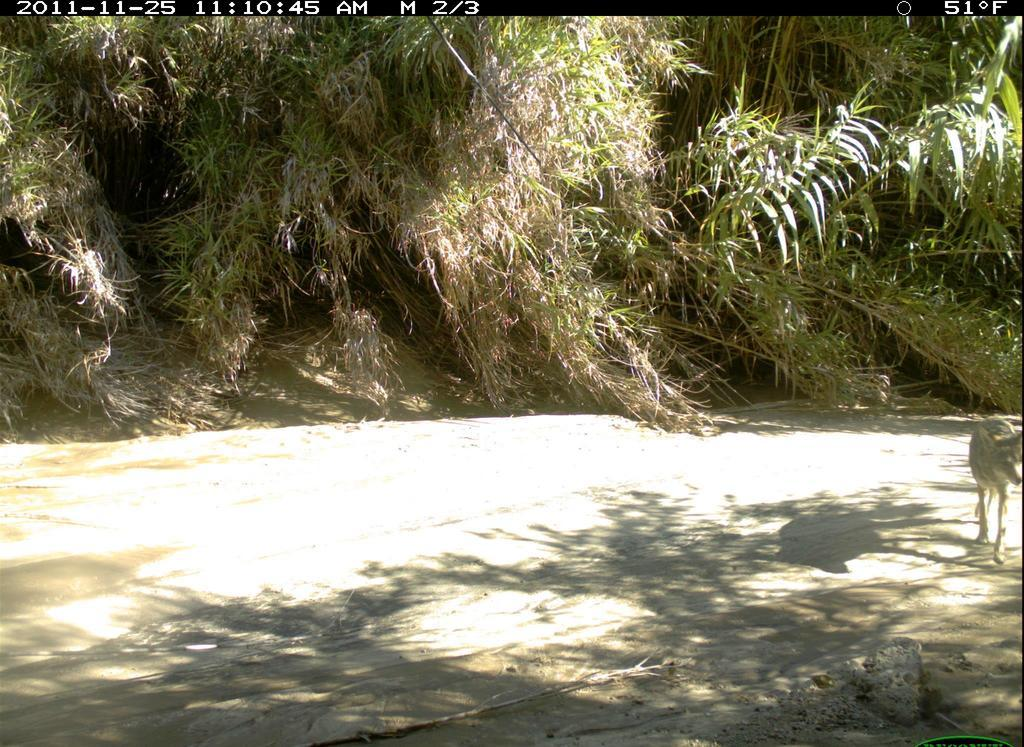coyote: (968, 409, 1023, 578)
